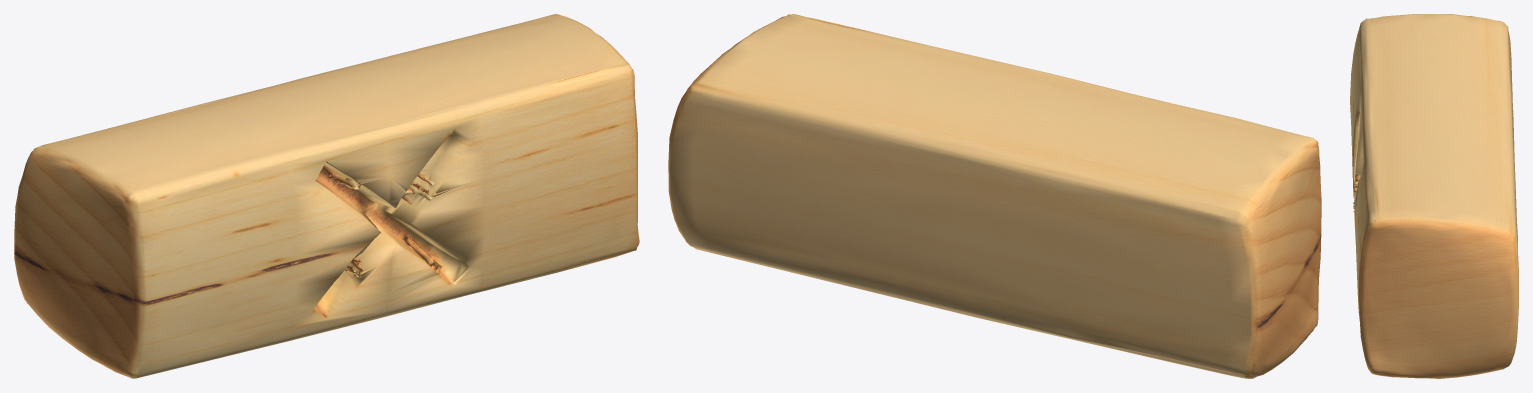
File: 019e5e22-39d3-7127-96b2-482cf3052dbb.glb
The picture shows the model from 3 angles, left to right: view 1: azimuth 30°, elevation 25°; view 2: azimuth 150°, elevation 25°; view 3: azimuth 270°, elevation 25°; orthographic projection. The views are drawn at different scales.
Parts seen in each view (by area): view 1: tripo_node_8556b9a0-b8a2-4e44-a5d0-020538afe39d; view 2: tripo_node_8556b9a0-b8a2-4e44-a5d0-020538afe39d; view 3: tripo_node_8556b9a0-b8a2-4e44-a5d0-020538afe39d.
Boxes of the visible parts, x1=… form: tripo_node_8556b9a0-b8a2-4e44-a5d0-020538afe39d: x1=14, y1=14, x2=639, y2=378; tripo_node_8556b9a0-b8a2-4e44-a5d0-020538afe39d: x1=668, y1=14, x2=1321, y2=378; tripo_node_8556b9a0-b8a2-4e44-a5d0-020538afe39d: x1=1350, y1=14, x2=1518, y2=378.
Size of the model in its own units: 0.998 by 0.3262 by 0.3105.
1 material, 1 textured.
